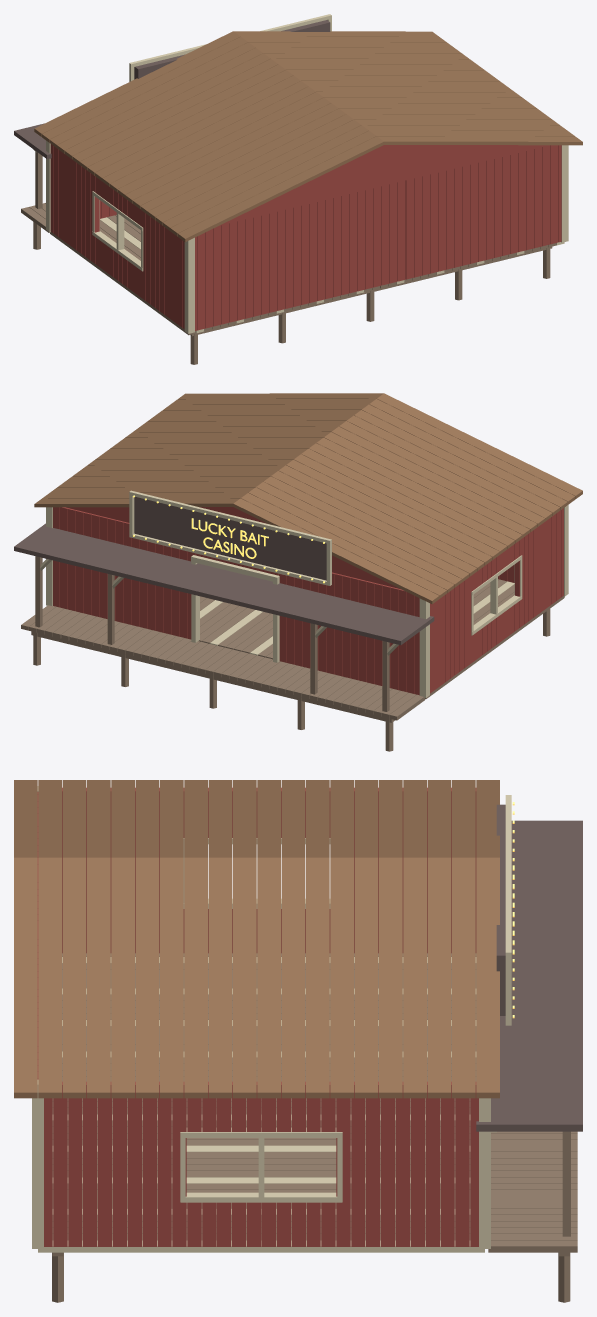
Rendered from LuckyBaitCasinoShell.fbx.
3 views of the same model, one above another, from view 1: azimuth 30°, elevation 25°; view 2: azimuth 150°, elevation 25°; view 3: azimuth 270°, elevation 25° (orthographic). The views are drawn at different scales.
Visible parts, largest first — view 1: RoofRight, BackWall, RoofLeft, SideWallRight, GableWalls, TrimAndWindowFrames, InteriorFloor, FoundationPiles, Marquee, Porch; view 2: RoofRight, Porch, RoofLeft, SideWallRight, Marquee, FrontWallRight, FrontWallLeft, InteriorFloor, TrimAndWindowFrames, FoundationPiles, GableWalls; view 3: RoofLeft, SideWallLeft, RoofRight, Porch, InteriorFloor, TrimAndWindowFrames, Marquee, SideWallRight, FoundationPiles.
Boxes of the visible parts, <box> form: RoofRight: <box>34,31,383,242</box>; BackWall: <box>195,145,561,330</box>; RoofLeft: <box>234,31,582,145</box>; SideWallRight: <box>50,144,184,329</box>; GableWalls: <box>219,145,548,225</box>; TrimAndWindowFrames: <box>46,140,568,333</box>; InteriorFloor: <box>50,215,564,335</box>; FoundationPiles: <box>33,222,552,364</box>; Marquee: <box>129,14,331,81</box>; Porch: <box>14,123,51,232</box>; RoofRight: <box>233,393,582,604</box>; Porch: <box>14,523,434,720</box>; RoofLeft: <box>34,393,383,507</box>; SideWallRight: <box>430,508,563,693</box>; Marquee: <box>129,490,331,585</box>; FrontWallRight: <box>278,572,419,695</box>; FrontWallLeft: <box>53,507,195,639</box>; InteriorFloor: <box>199,579,564,699</box>; TrimAndWindowFrames: <box>46,505,568,697</box>; FoundationPiles: <box>31,609,550,751</box>; GableWalls: <box>66,507,399,588</box>; RoofLeft: <box>14,857,499,1098</box>; SideWallLeft: <box>44,1081,478,1246</box>; RoofRight: <box>14,780,499,857</box>; Porch: <box>476,820,582,1252</box>; InteriorFloor: <box>38,953,484,1252</box>; TrimAndWindowFrames: <box>32,786,496,1248</box>; Marquee: <box>496,795,514,1025</box>; SideWallRight: <box>62,787,476,953</box>; FoundationPiles: <box>52,1252,570,1302</box>.
Bounding box in the file's own units: 14.9 × 6.75 × 11.46.
